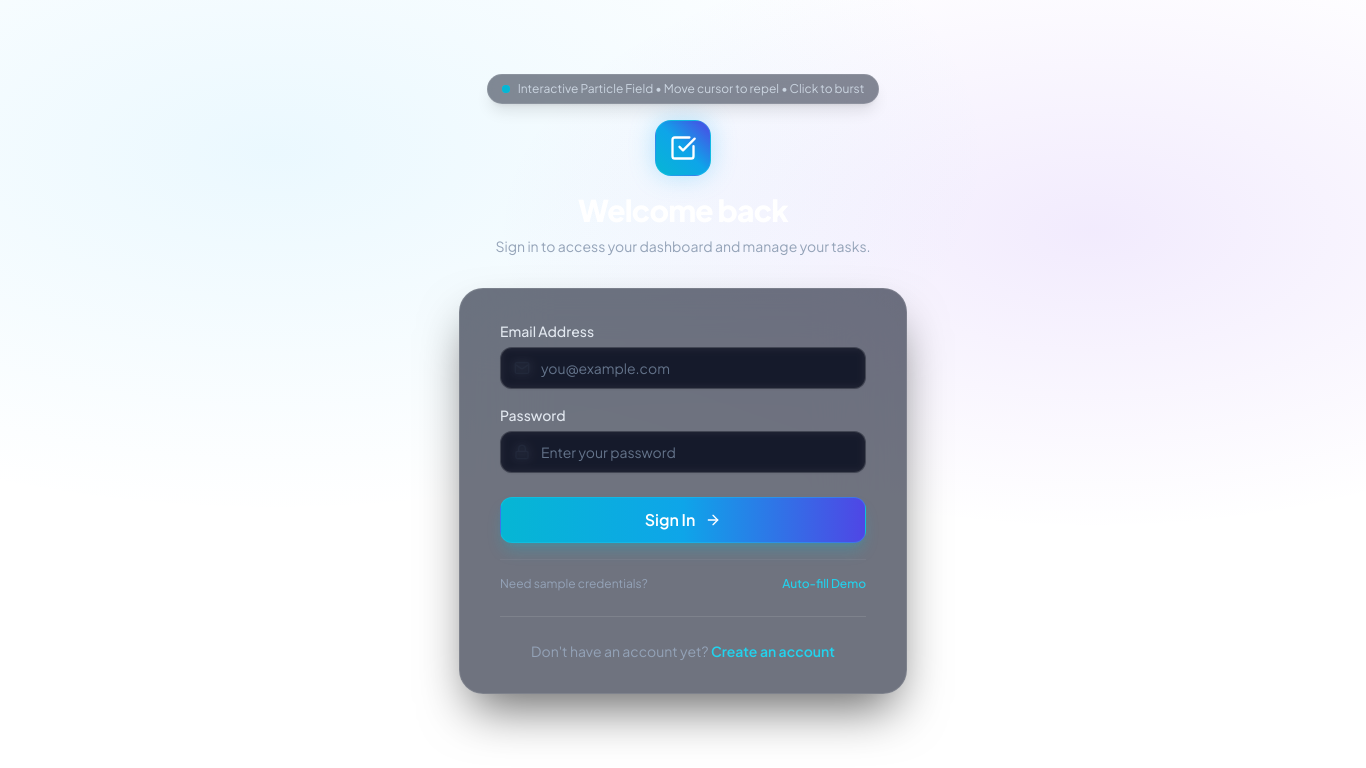
it: LoginPage Component › displays error alert on invalid credentials
Type "bad@example.com" into the field labelled "Email Address" at x=683, y=368, box [500, 347, 866, 389]
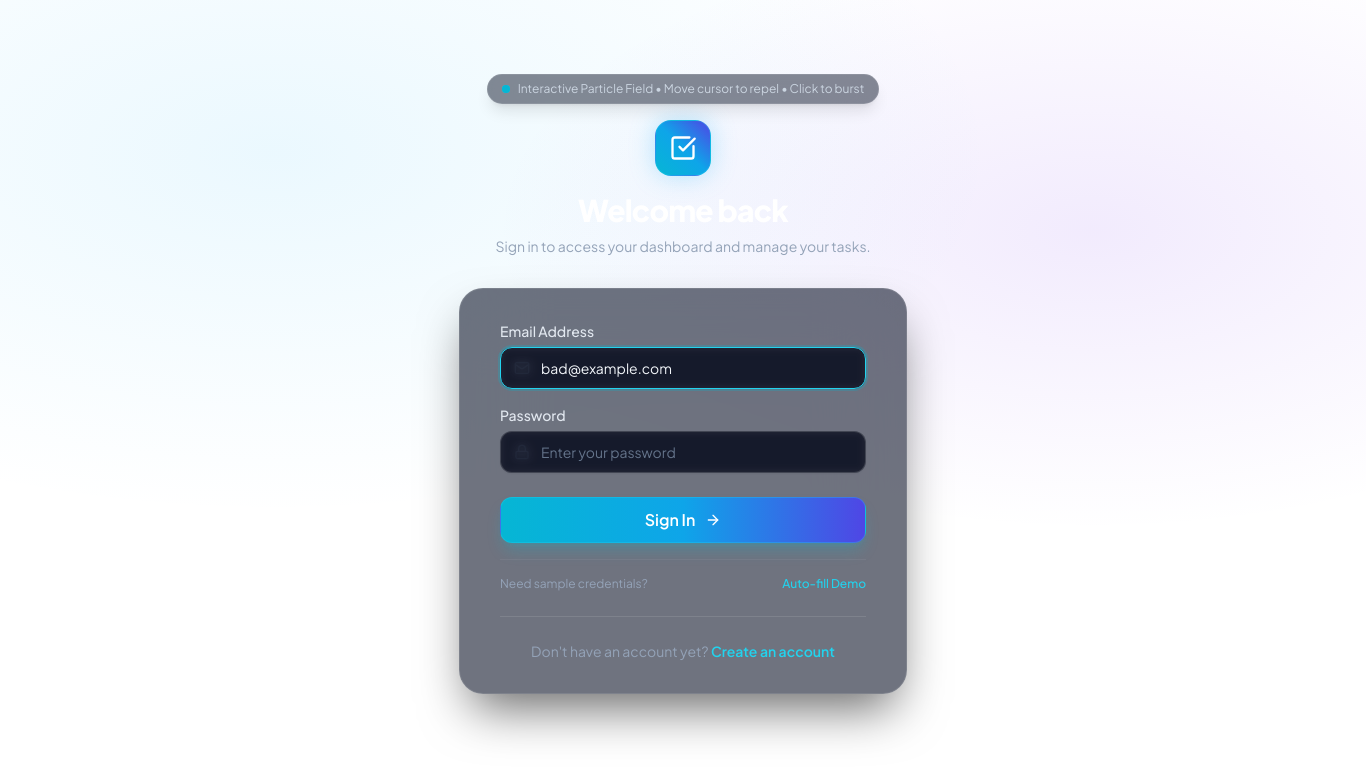
Type "wrongpass" into the password field labelled "Password" at x=683, y=452, box [500, 431, 866, 473]
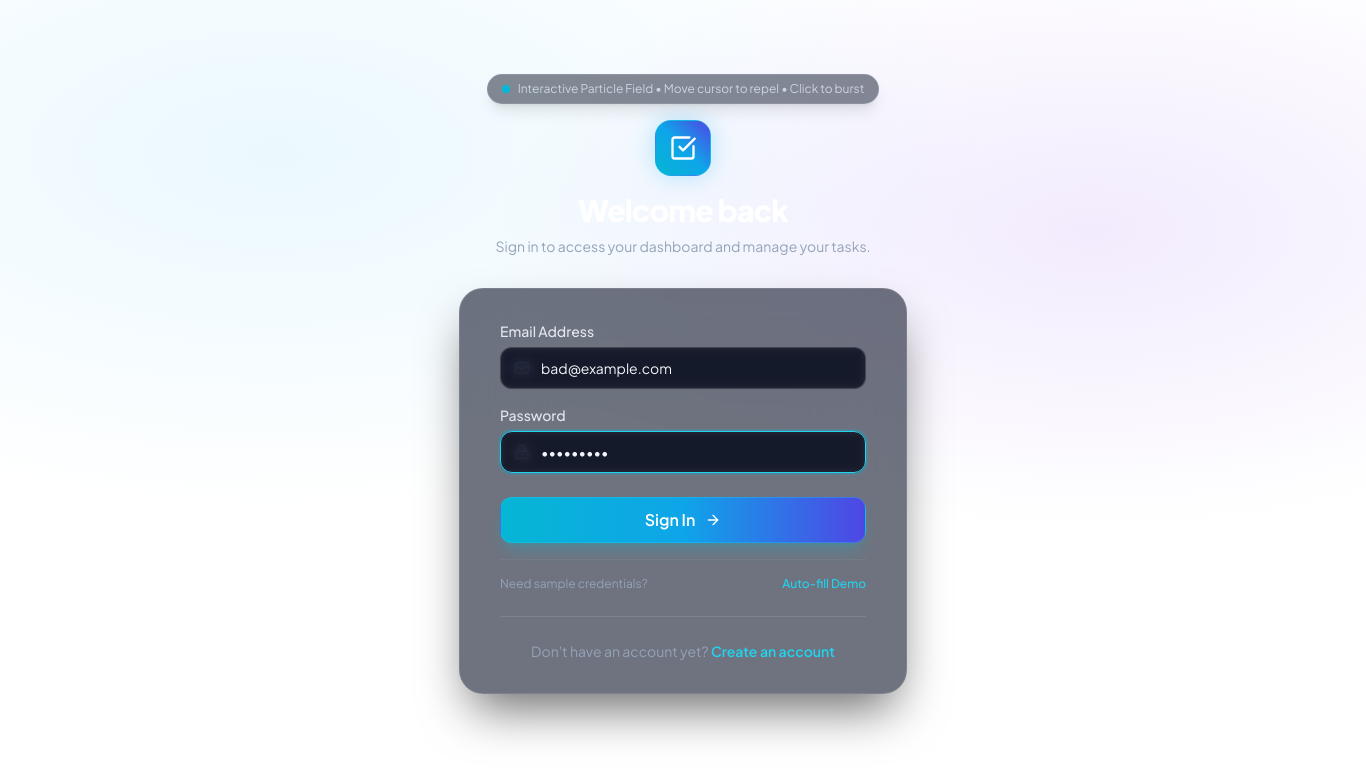
Click the button "Sign In" at x=683, y=520, box [500, 497, 866, 543]
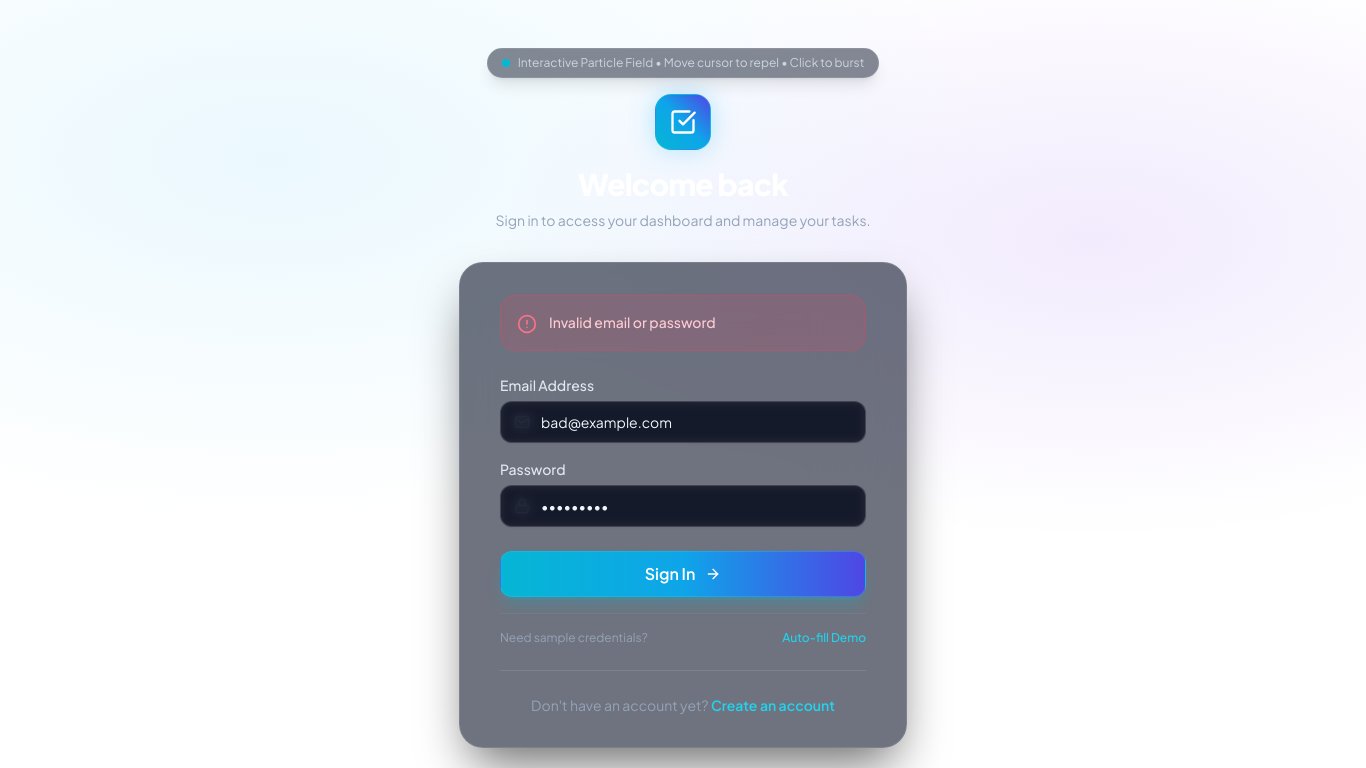
Check: the text "Invalid email or password" is shown, box [549, 312, 716, 332]
